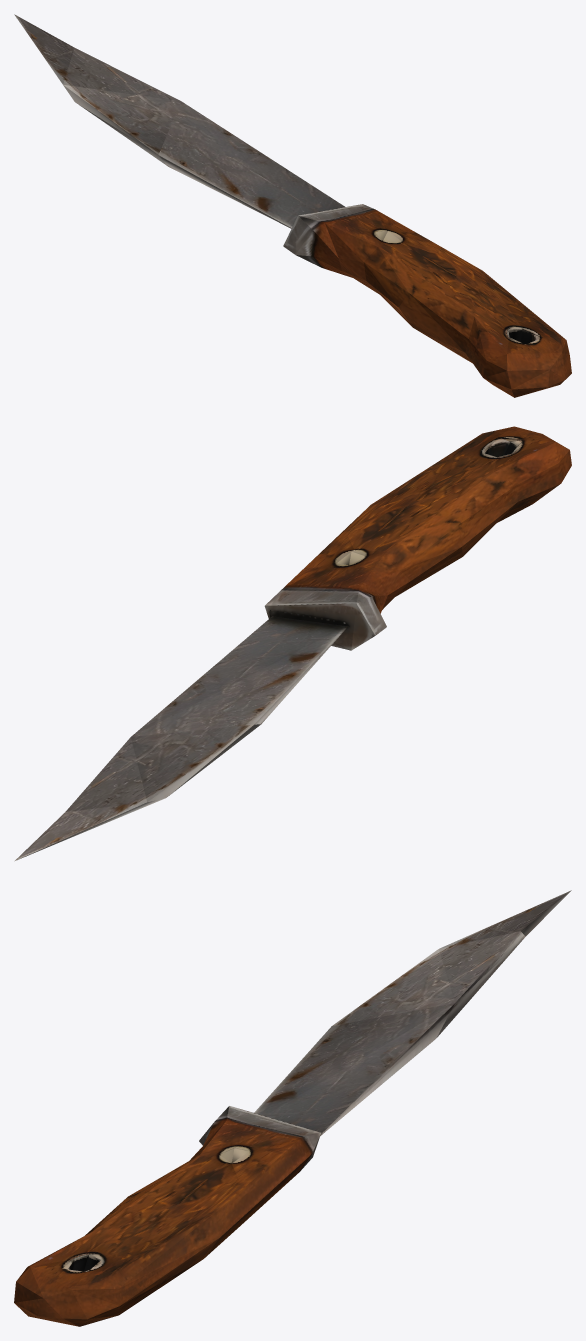
The model's file is SM_Knife.fbx.
3 renders of one model, top to bottom at view 1: azimuth 30°, elevation 25°; view 2: azimuth 150°, elevation 25°; view 3: azimuth 330°, elevation 25°, orthographic. The views are drawn at different scales.
Parts seen in each view (by area): view 1: SM_Knife; view 2: SM_Knife; view 3: SM_Knife.
Part boxes in pixels (bbox=[...]): SM_Knife: bbox=[14, 14, 571, 397]; SM_Knife: bbox=[14, 426, 571, 861]; SM_Knife: bbox=[14, 890, 571, 1326].
Size of the model in its own units: 4.8 by 2 by 35.5.
Materials: 1 (1 with a texture image).
